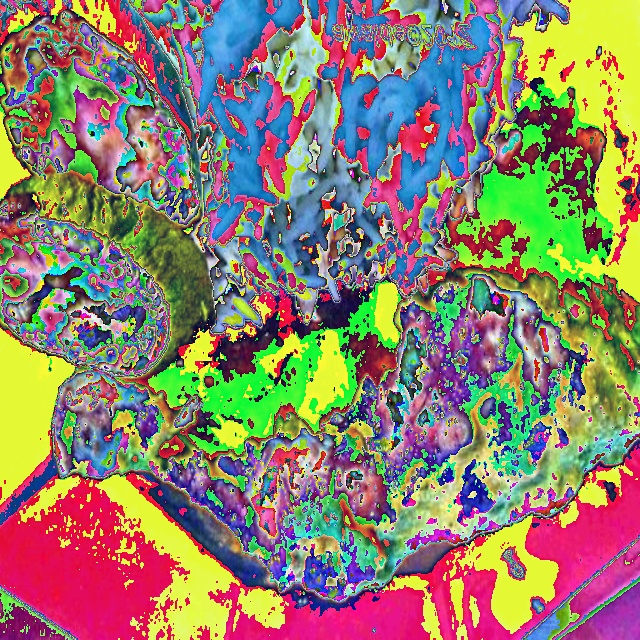background: (0, 0, 640, 603)
